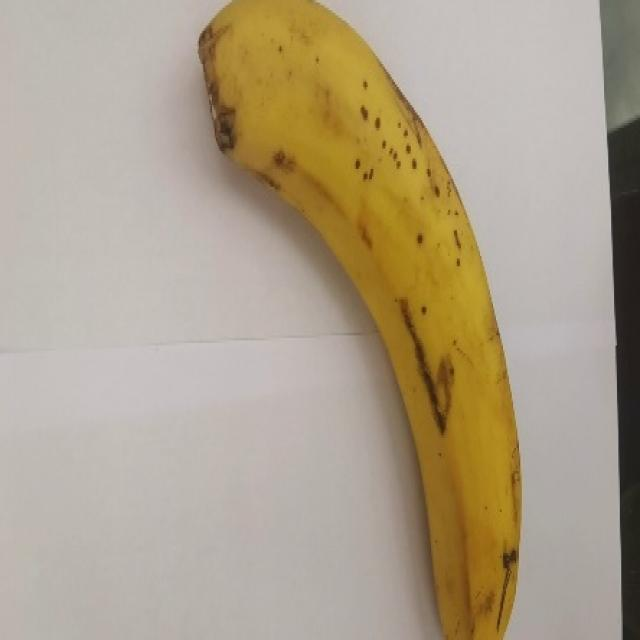Banana: (194, 3, 524, 640)
